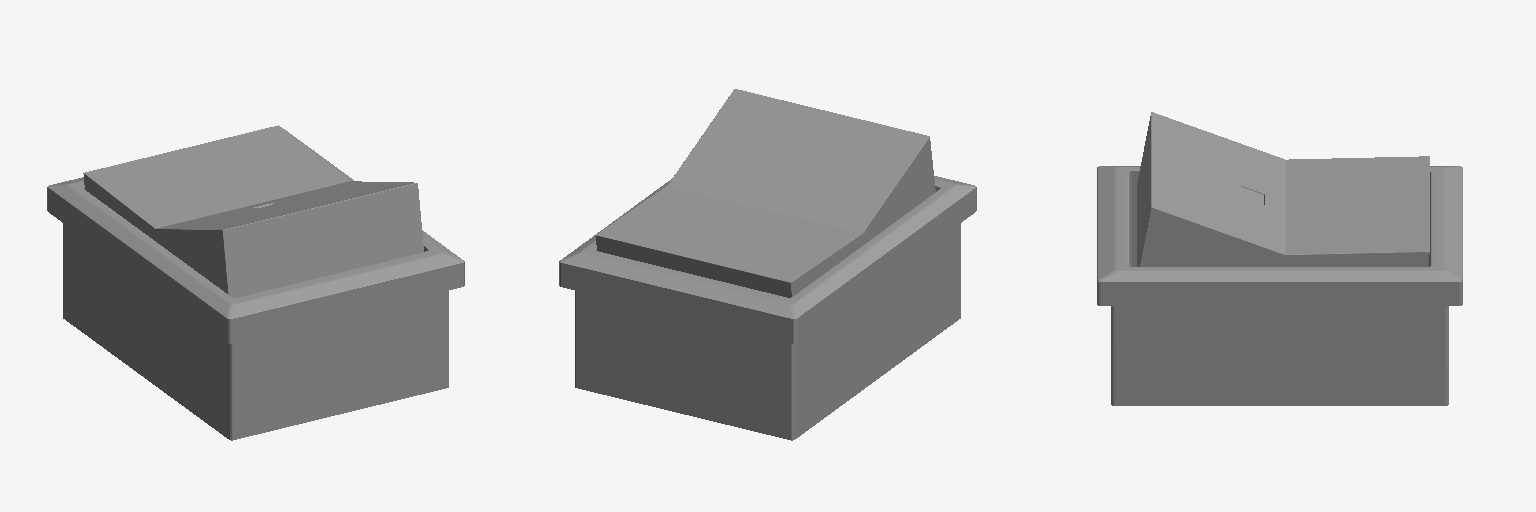
Rendered from switchbutton.obj.
3 views of the same model, side by side, from view 1: azimuth 30°, elevation 25°; view 2: azimuth 150°, elevation 25°; view 3: azimuth 270°, elevation 25° (orthographic).
Visible parts, largest first — view 1: Cube, Plane; view 2: Cube, Plane; view 3: Cube, Plane.
Boxes of the visible parts, x1,y1,x2,y2 form: Cube: [47, 129, 464, 440]; Plane: [83, 125, 423, 297]; Cube: [559, 176, 976, 440]; Plane: [595, 89, 935, 297]; Cube: [1097, 166, 1462, 405]; Plane: [1137, 112, 1429, 266].
Bounding box in the file's own units: 0.015 × 0.0117 × 0.02.